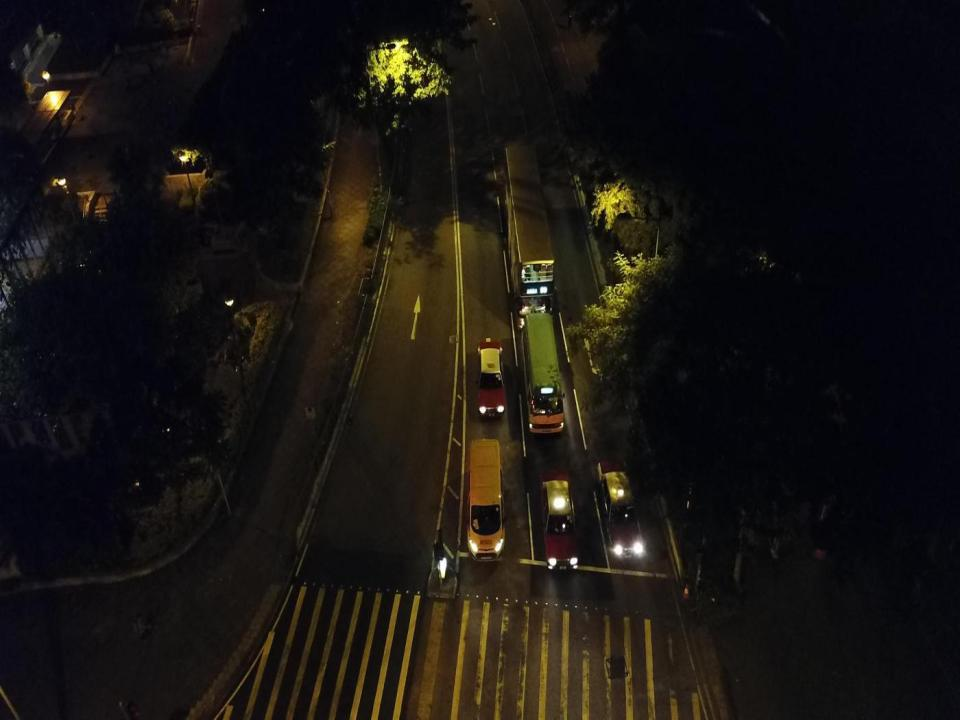bus: (500, 142, 555, 330), (520, 312, 565, 434)
car: (596, 459, 645, 557), (538, 466, 580, 571), (474, 340, 508, 419)
van: (467, 438, 505, 562)
